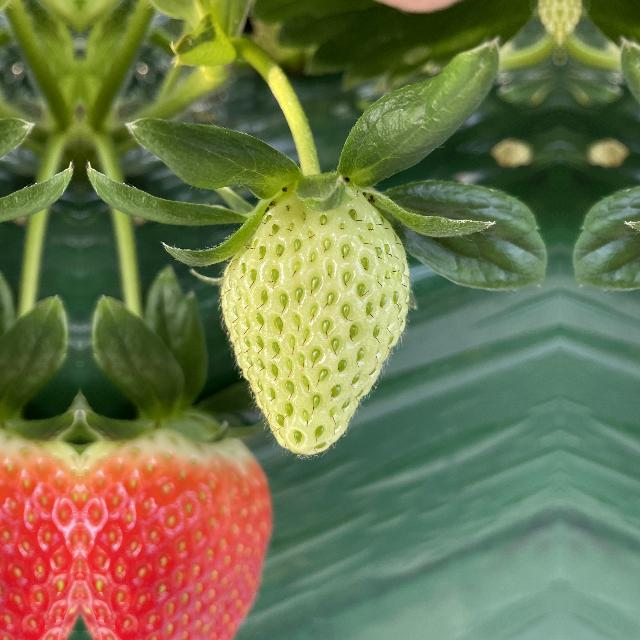Health_100: (80, 419, 272, 639), (0, 419, 80, 639)
Health_25: (200, 177, 418, 463)
